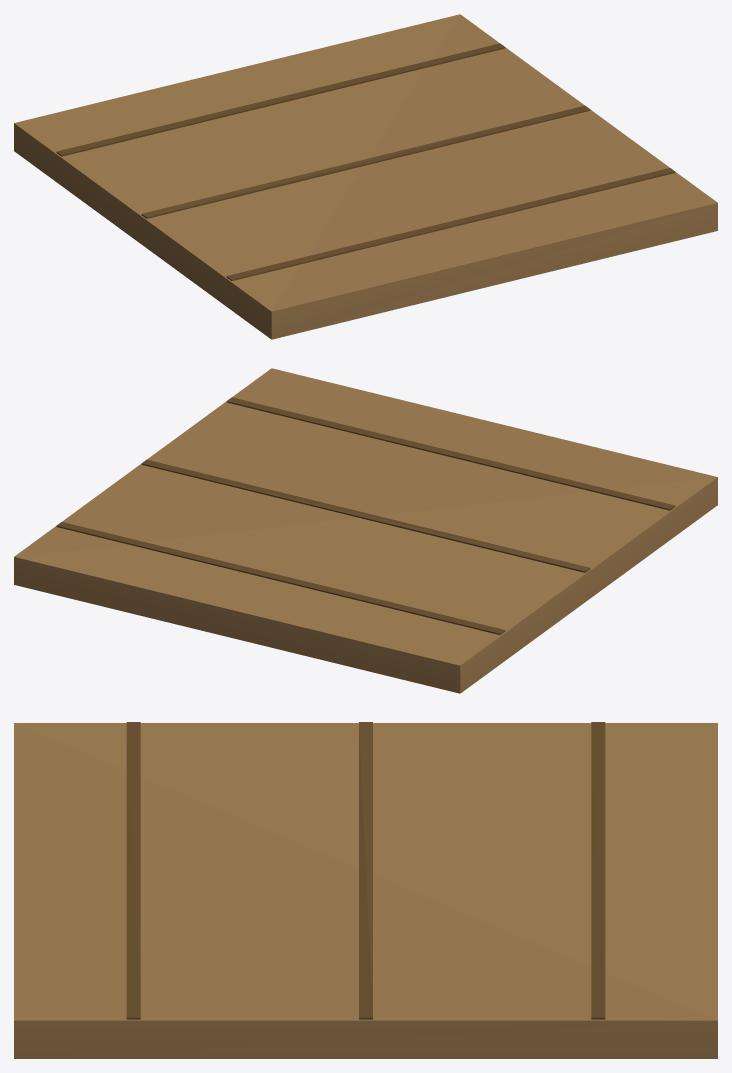
The model's file is floor-tile.glb.
3 renders of one model, top to bottom at view 1: azimuth 30°, elevation 25°; view 2: azimuth 150°, elevation 25°; view 3: azimuth 270°, elevation 25°, orthographic. The views are drawn at different scales.
Parts seen in each view (by area): view 1: floor_tile; view 2: floor_tile; view 3: floor_tile.
Part boxes in pixels (box(x1,y1,x2,y2)): floor_tile: box(14, 14, 717, 339); floor_tile: box(14, 368, 717, 693); floor_tile: box(14, 722, 717, 1058).
Size of the model in its own units: 1 by 0.063 by 1.
